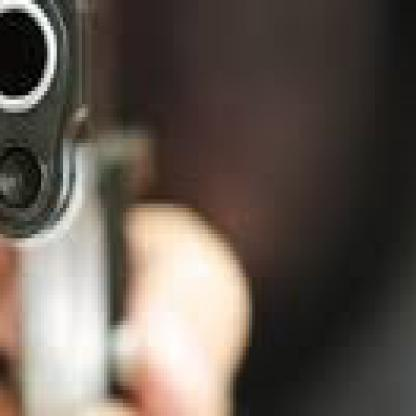gun: (0, 0, 170, 412)
